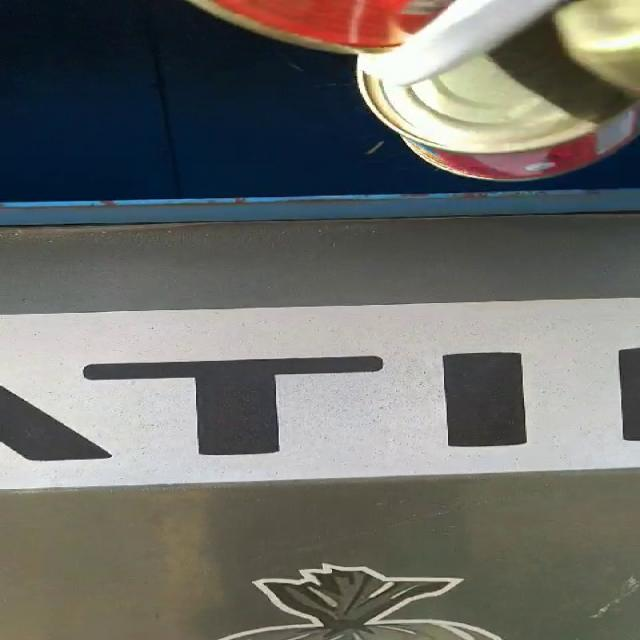bin: (1, 190, 640, 640), (3, 0, 637, 200)
metal: (359, 12, 637, 179)
